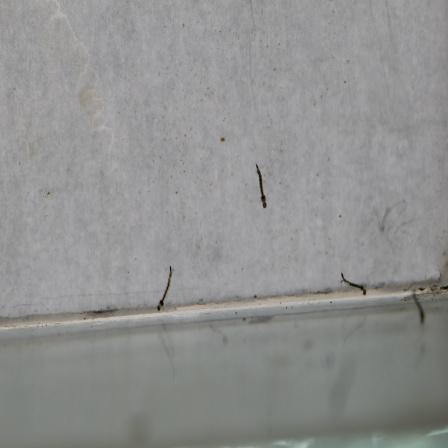Jentik-Nyamuk: (154, 262, 177, 314), (338, 269, 373, 300), (252, 161, 272, 211)
